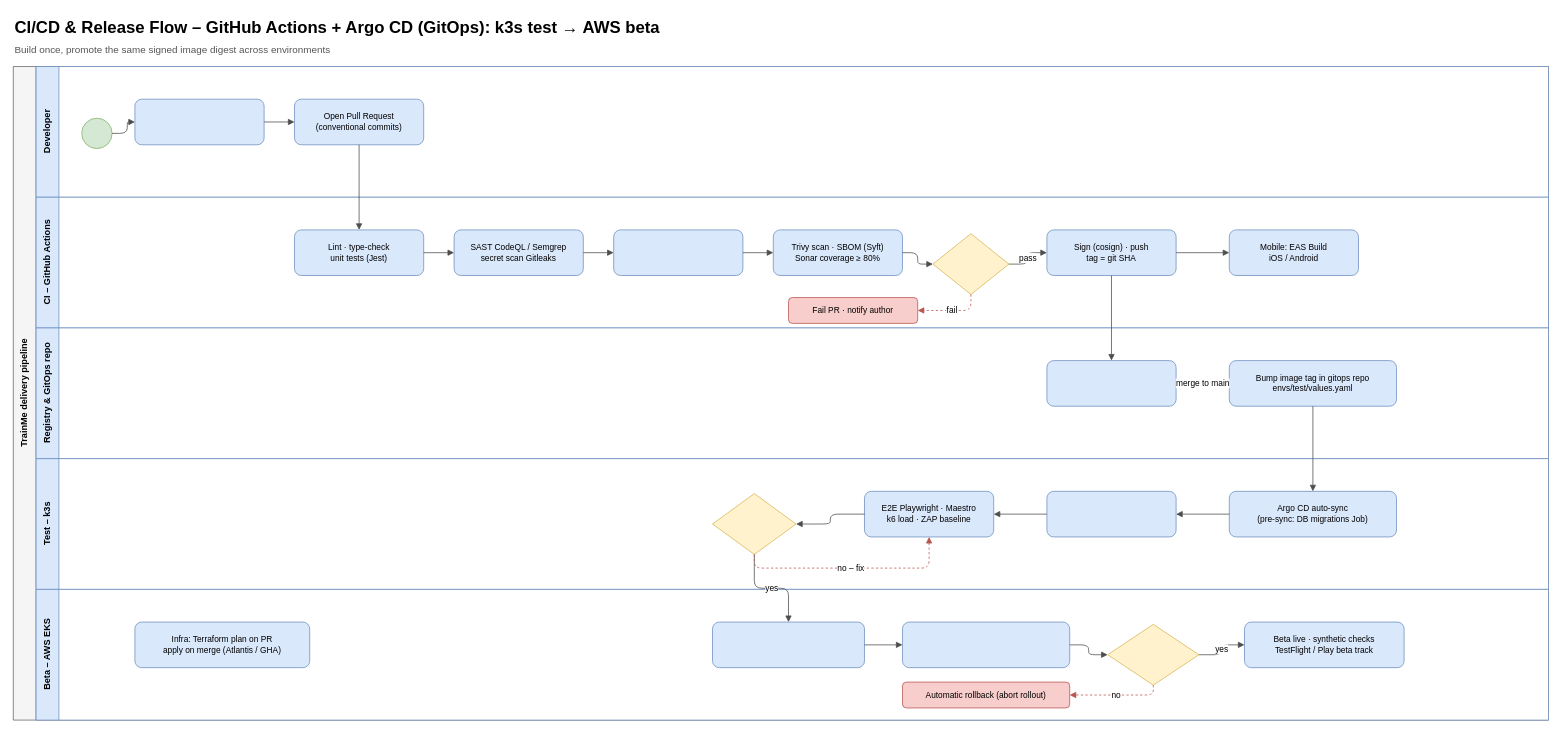
Some shapes in this 1562 by 733 pixel diagram are drawn without their labels. Each missing label, with the centre of its shape:
Argo CD sync · Argo Rollouts canary 10% → 50% → 100%: (x=986, y=644)
Build OCI image (Buildx, multi-arch): (x=678, y=252)
Code + unit tests (Tilt / docker compose / k3d): (x=199, y=121)
GHCR (test) / ECR (beta) immutable digests: (x=1111, y=383)
PR: promote digest to envs/beta (manual approve): (x=788, y=644)
Quality gate?: (x=970, y=263)
Release approval?: (x=754, y=523)
SLOs & analysis OK?: (x=1153, y=654)
Smoke + contract tests (Newman, Pact): (x=1111, y=514)
